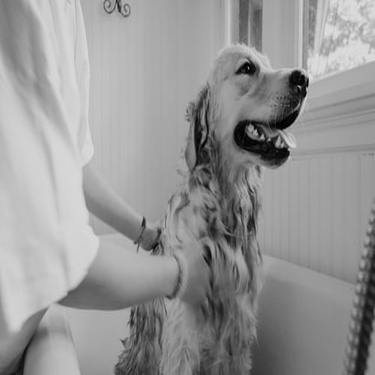dog: (108, 35, 315, 373)
